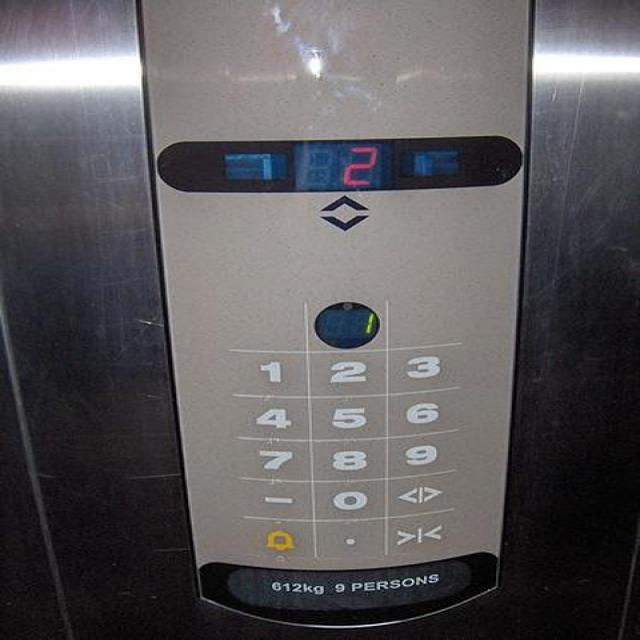-: (233, 472, 320, 524), (303, 515, 389, 564)
0: (302, 475, 390, 524)
1: (225, 344, 315, 398)
2: (302, 346, 394, 399)
3: (381, 340, 472, 394)
4: (224, 390, 315, 442)
5: (302, 390, 390, 440)
6: (379, 386, 464, 440)
7: (224, 430, 316, 484)
8: (302, 436, 394, 484)
9: (380, 427, 460, 478)
alarm: (233, 515, 320, 562)
close: (379, 507, 464, 560)
led: (154, 136, 522, 192), (298, 294, 386, 352)
open: (378, 466, 458, 519)
